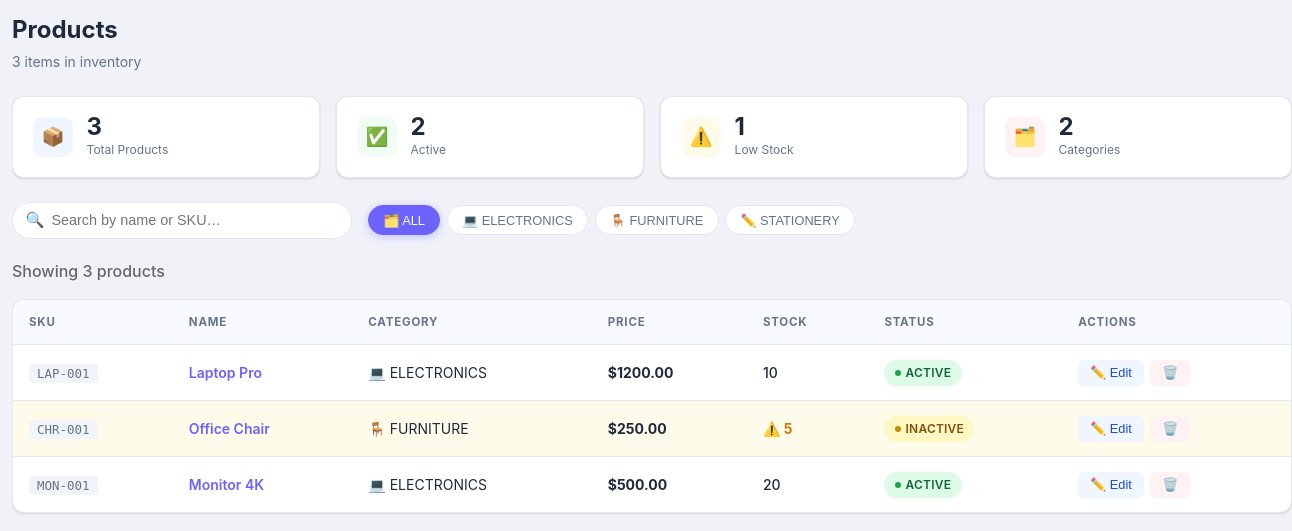
Test: ProductList › handles product deletion
This screenshot has width=1292, height=531.
expect the link "Laptop Pro" is shown: met, box x1=189 y1=364 x2=262 y2=381
Click the button "🗑️" in the row of "LAP-001" at (1170, 373), box x1=1150 y1=360 x2=1190 y2=386
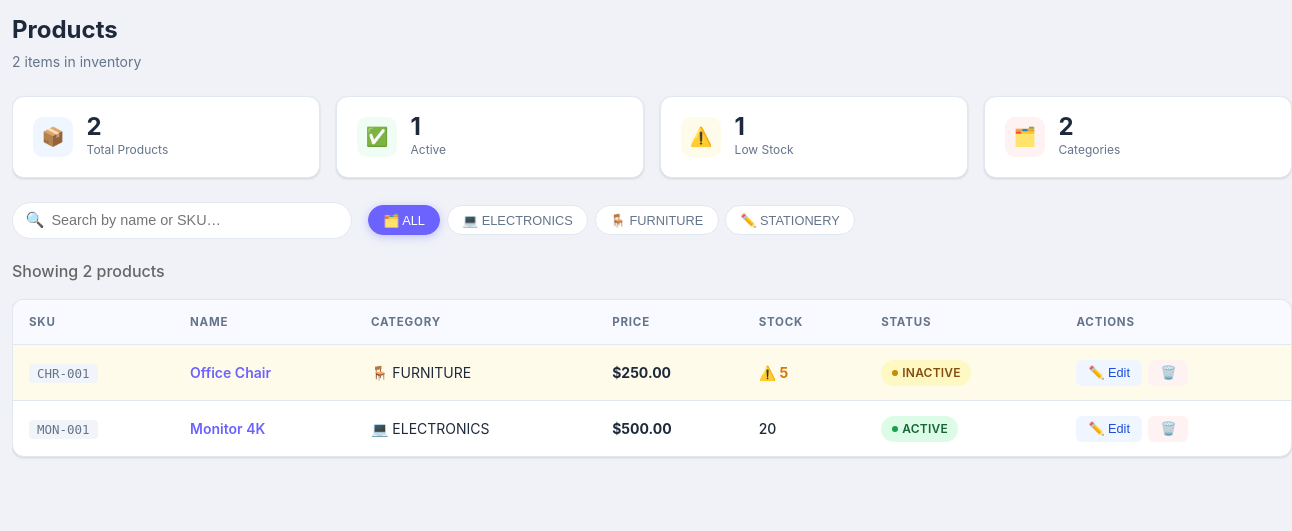
expect the link "Laptop Pro" is gone: met
expect the text "Showing 2 products" is shown: met, box x1=12 y1=261 x2=165 y2=281
